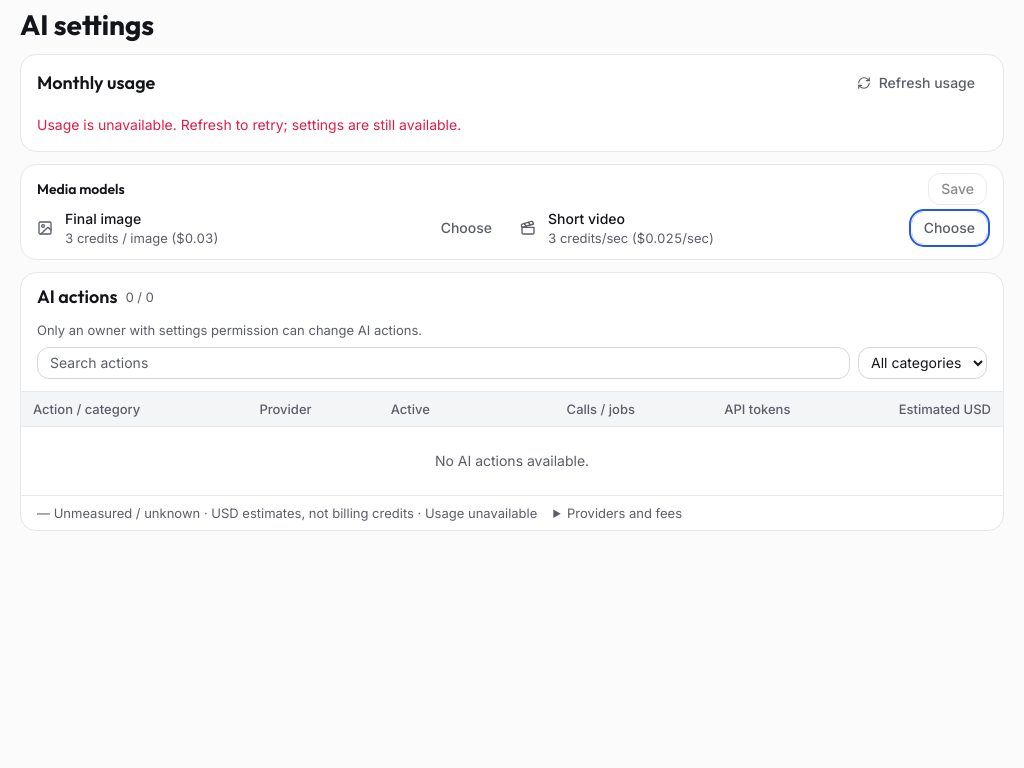
Test: AiModelsPage › keeps catalogues in a keyboard-accessible sheet and preserves a choice when reopening
Press Enter
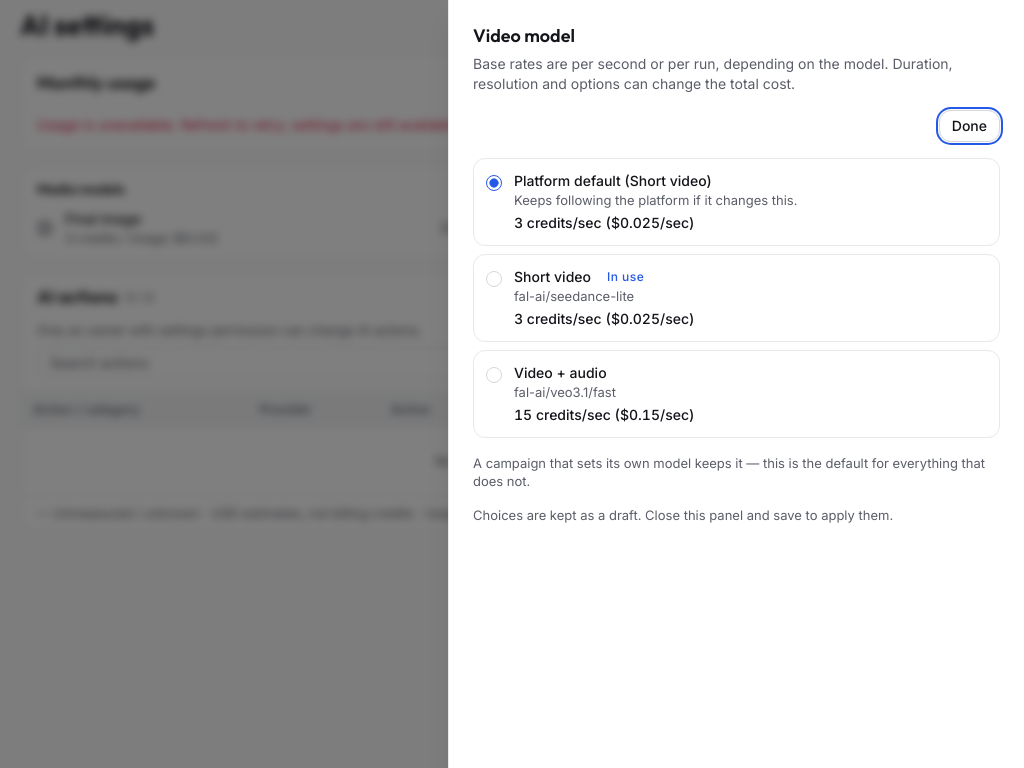
Click the radio button named "Video + audio" next to "Video + audio" at (494, 375), box [486,367,502,383]
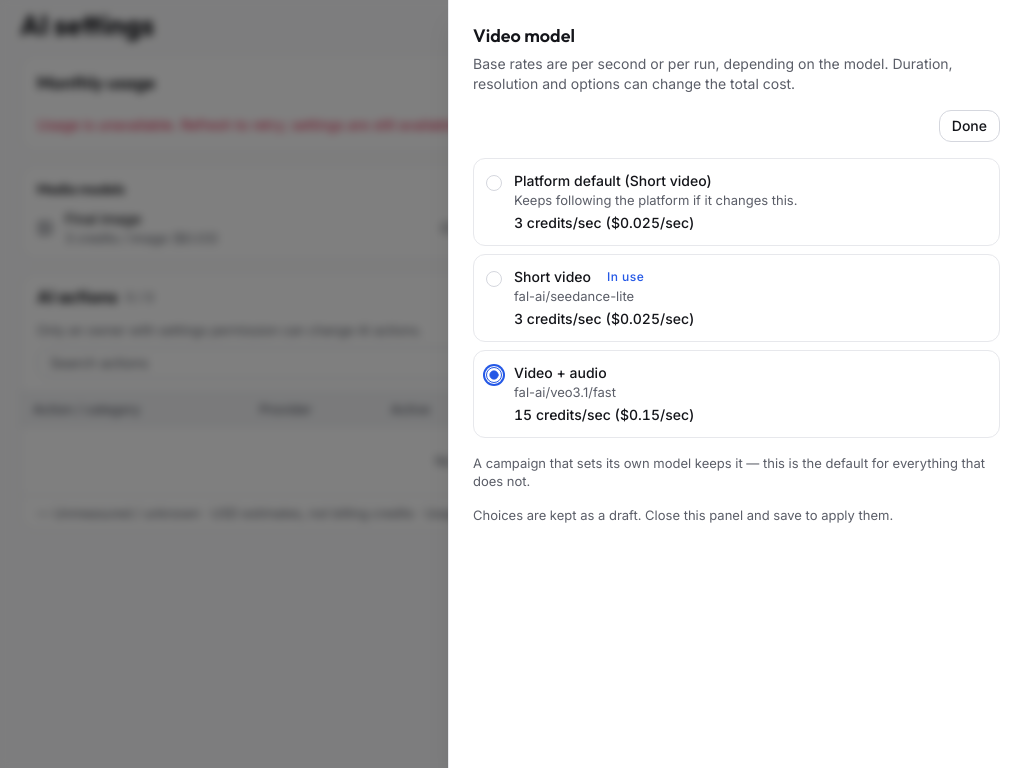
Press Escape
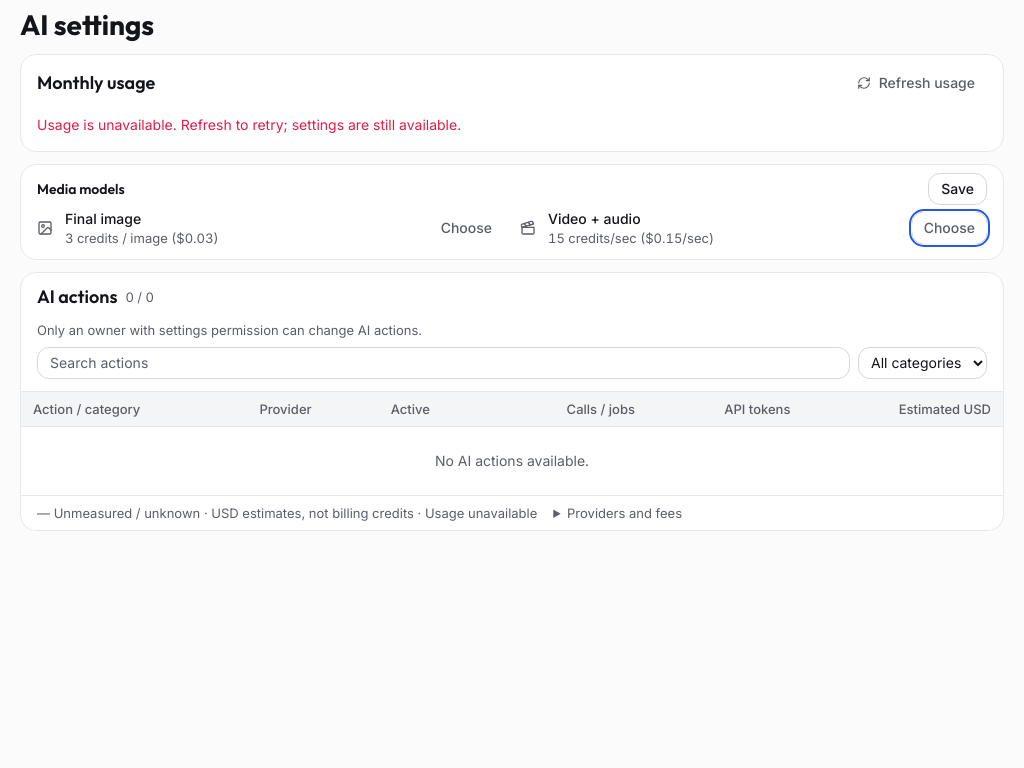
Check: the element "Media models" shows "Video + audio", box [548,210,641,227]
Click the button with aria-label "Choose video model" at (949, 228), box [912,212,987,244]
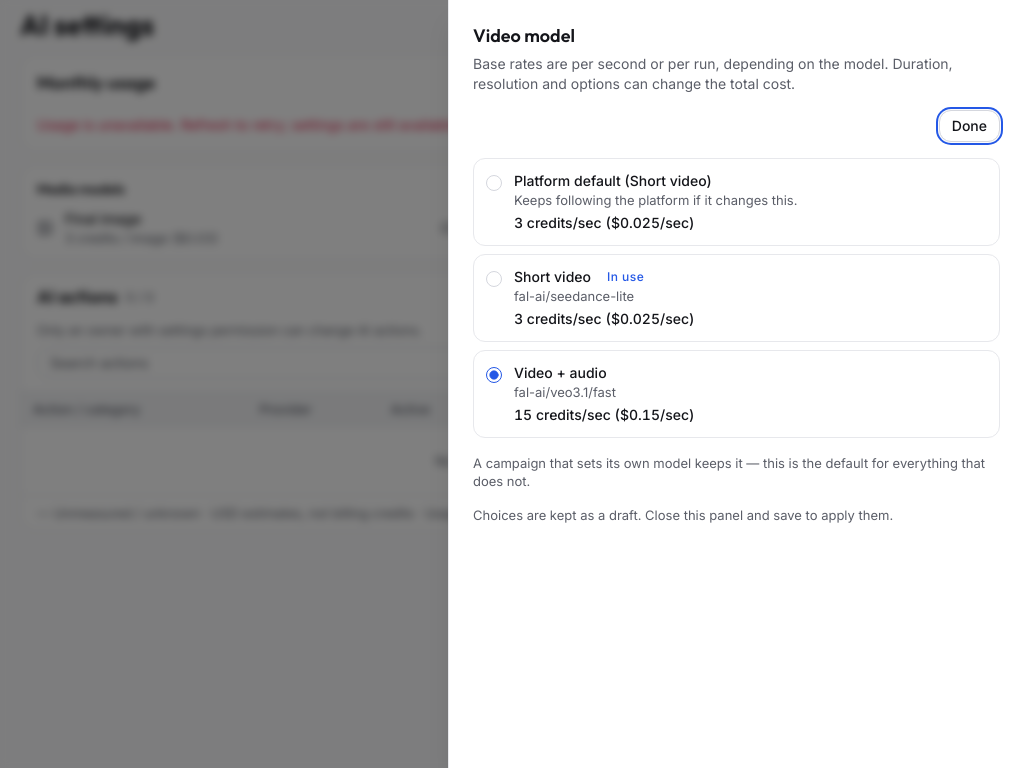
Check: the dialog "Video model" is shown, box [448,0,1023,767]
Check: the 3rd radio button named "Video + audio" is checked, box [486,367,502,383]
